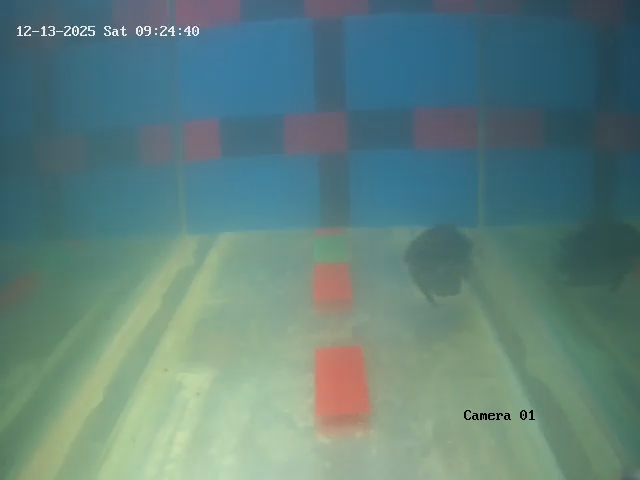fish: (407, 226, 472, 300)
